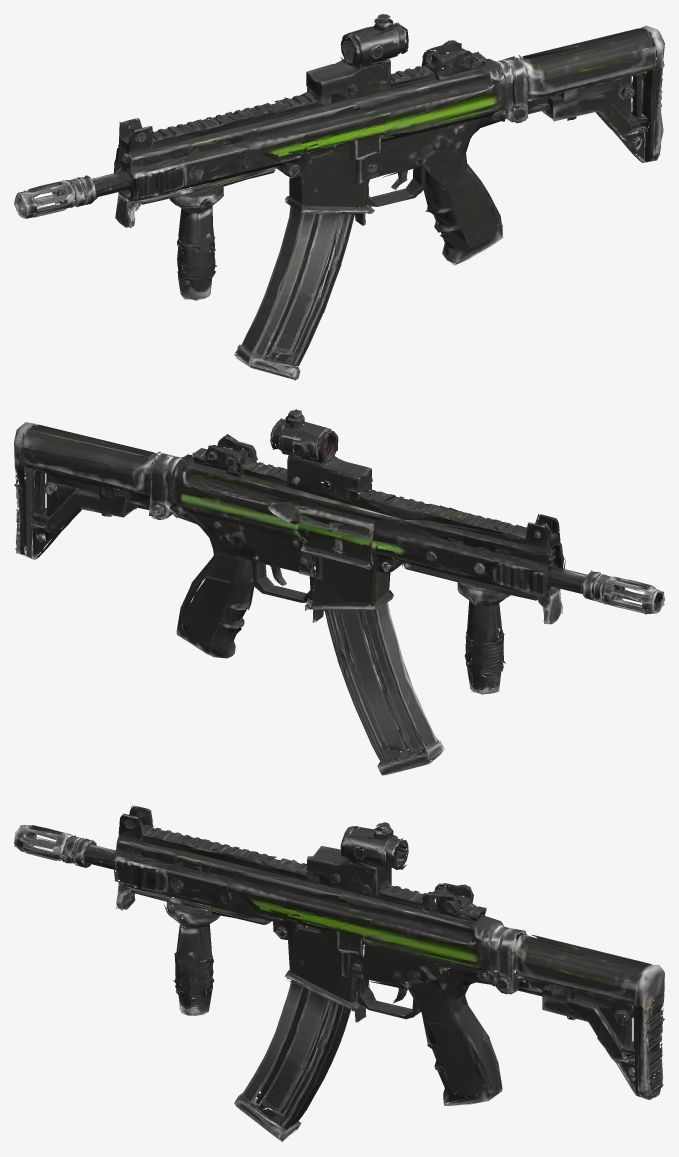
File: gun_smg_lo.glb
The picture shows the model from 3 angles, top to bottom: view 1: azimuth 30°, elevation 25°; view 2: azimuth 150°, elevation 25°; view 3: azimuth 330°, elevation 25°; orthographic projection.
Visible parts, largest first — view 1: Mesh_0; view 2: Mesh_0; view 3: Mesh_0.
Boxes of the visible parts, x1,y1,x2,y2 form: Mesh_0: (14,14,664,380); Mesh_0: (14,409,664,775); Mesh_0: (14,804,664,1141).
Size of the model in its own units: 1.9 by 0.9577 by 0.1692.
1 material, 1 textured.
